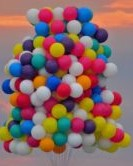Balloon: (77, 7, 93, 22), (49, 42, 65, 57), (36, 85, 51, 100), (25, 8, 39, 24), (51, 103, 67, 117), (71, 117, 85, 133), (31, 126, 47, 140), (31, 54, 45, 69), (82, 22, 96, 37), (66, 20, 81, 34), (69, 82, 83, 97), (20, 79, 35, 93), (80, 97, 94, 112), (79, 35, 93, 49), (69, 61, 83, 75), (91, 59, 105, 73), (56, 83, 70, 97), (39, 8, 52, 23), (50, 20, 65, 33), (103, 123, 116, 138), (54, 132, 69, 145), (21, 65, 34, 79), (95, 28, 108, 42), (35, 22, 49, 35), (104, 62, 117, 76), (45, 59, 58, 73), (78, 75, 91, 89), (47, 76, 60, 90), (101, 90, 114, 104), (58, 118, 72, 131), (83, 119, 96, 133), (18, 141, 31, 155), (95, 27, 108, 41), (68, 132, 81, 146), (40, 138, 54, 151), (81, 134, 96, 146), (10, 62, 21, 78), (64, 7, 77, 20), (17, 94, 30, 107), (21, 107, 34, 120), (72, 42, 84, 56), (20, 120, 32, 134), (10, 124, 22, 138), (32, 112, 45, 124), (92, 103, 104, 116), (63, 39, 74, 53), (51, 7, 63, 19), (19, 51, 31, 63), (59, 58, 70, 70)
